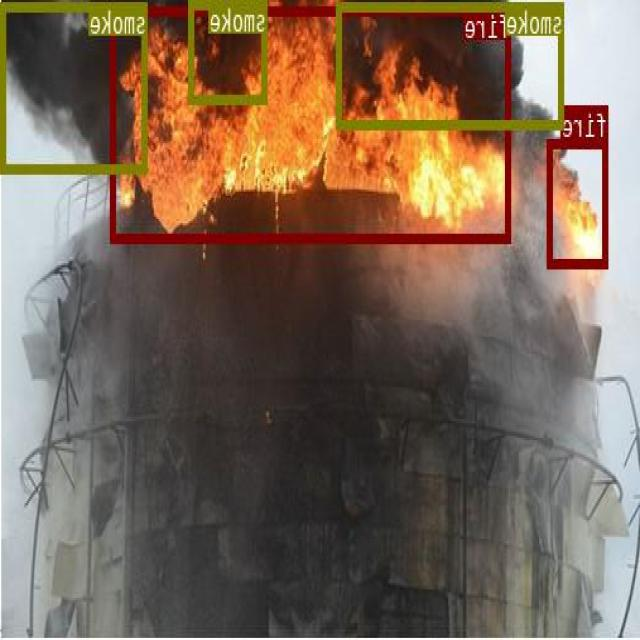fire: (112, 5, 512, 242), (548, 138, 608, 267)
smoke: (338, 1, 566, 128), (2, 2, 148, 171), (190, 0, 268, 101)
